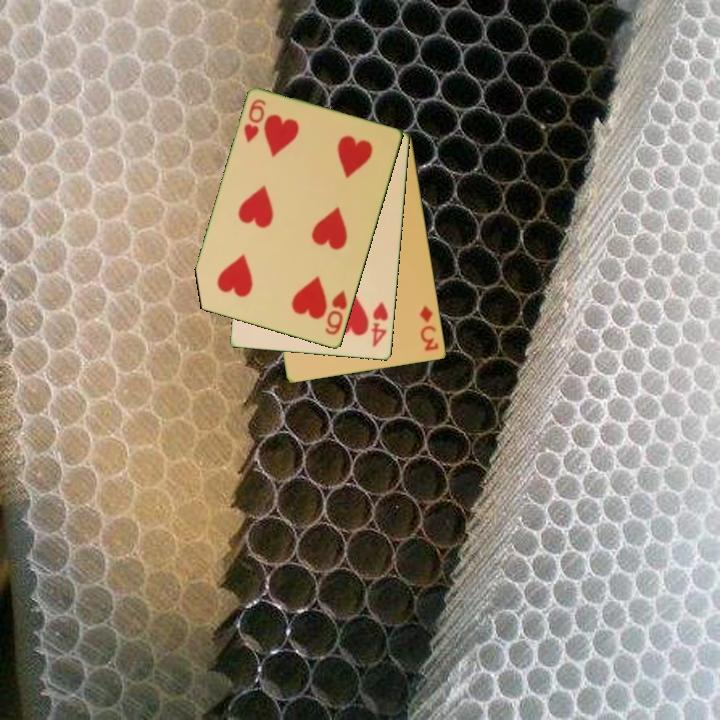3d: (416, 303, 442, 354)
4h: (368, 299, 391, 350)
6h: (322, 287, 351, 338), (241, 96, 269, 146)
